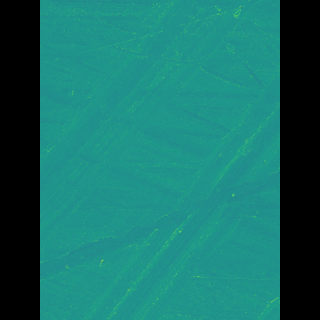Loch: (69, 0, 231, 257), (102, 69, 250, 319)
